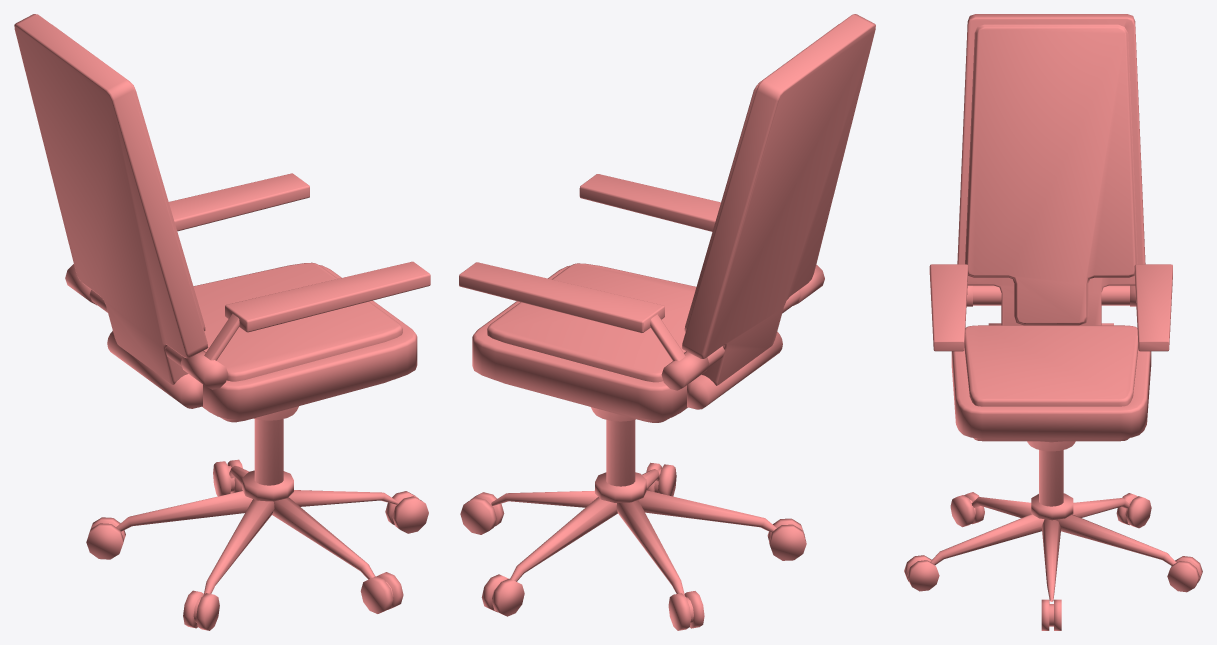
The model's file is Chair.fbx.
3 renders of one model, left to right at view 1: azimuth 30°, elevation 25°; view 2: azimuth 150°, elevation 25°; view 3: azimuth 270°, elevation 25°, orthographic. The views are drawn at different scales.
Parts seen in each view (by area): view 1: Chair; view 2: Chair; view 3: Chair.
Boxes of the visible parts, x1=… form: Chair: x1=14, y1=14, x2=430, y2=630; Chair: x1=459, y1=14, x2=875, y2=630; Chair: x1=904, y1=14, x2=1202, y2=630.
Bounding box in the file's own units: 70.2 × 104 × 59.13.
